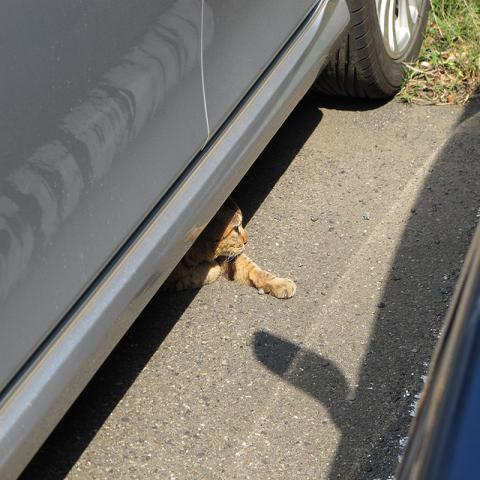car: (1, 0, 428, 475)
